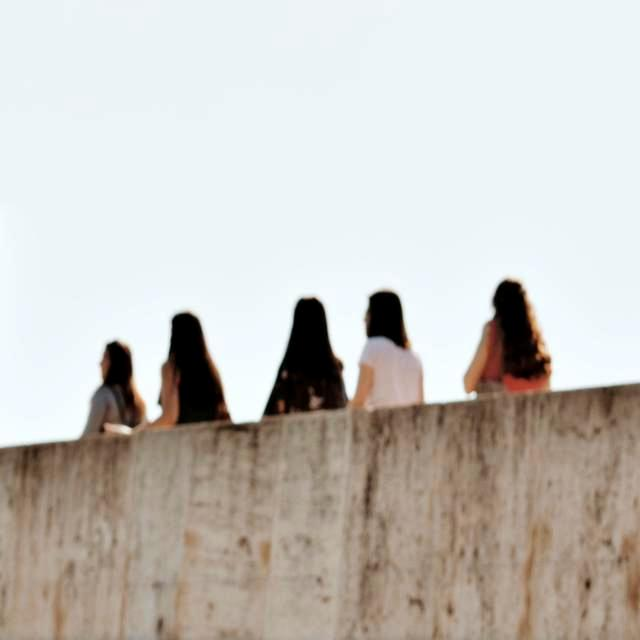no_head_wear: (493, 279, 550, 376), (169, 312, 224, 405), (286, 298, 341, 379), (103, 341, 146, 426), (366, 291, 411, 349)
person: (464, 279, 551, 394), (264, 297, 348, 415), (152, 312, 231, 427), (351, 290, 424, 409), (83, 341, 147, 436)
